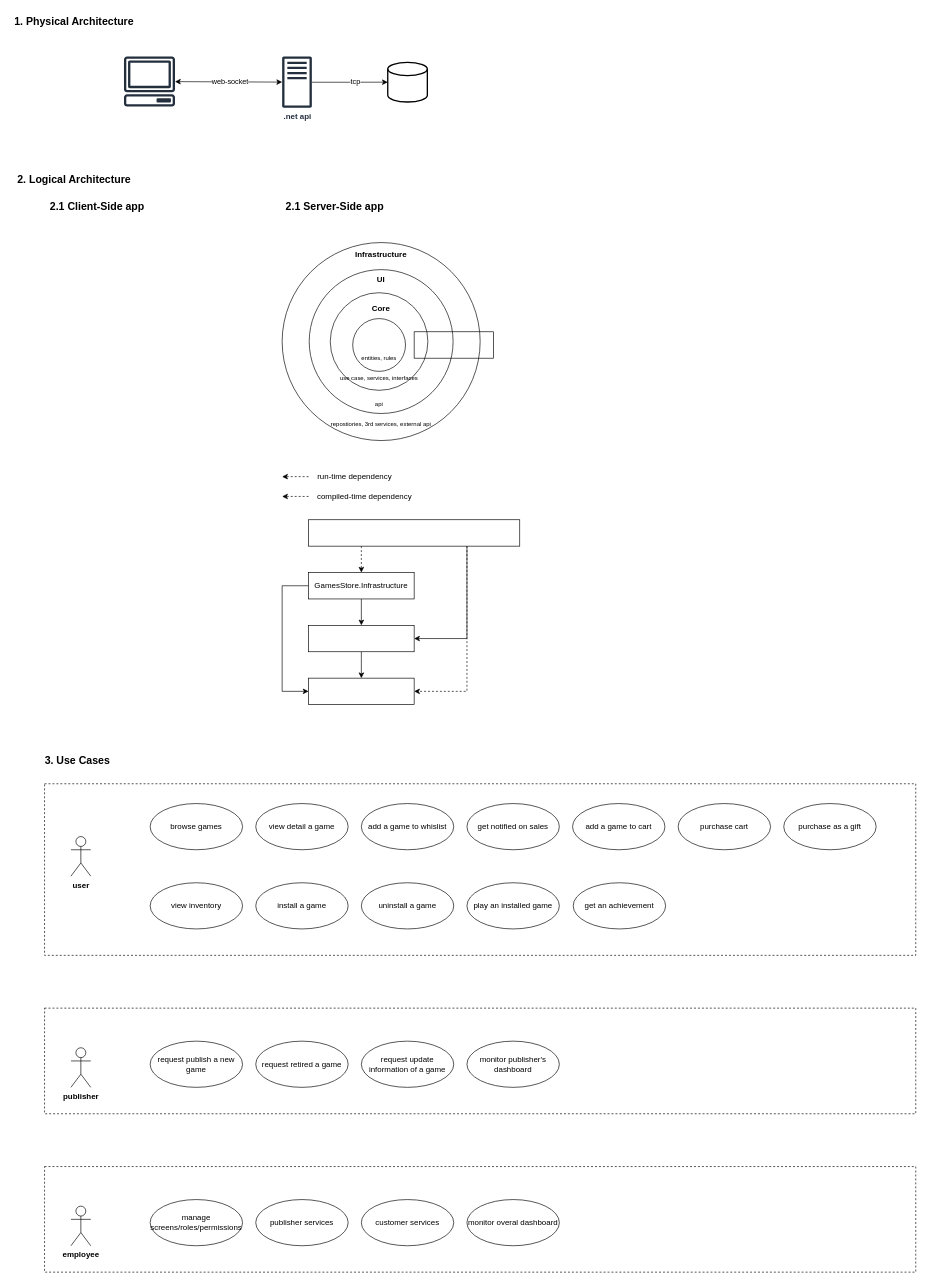
This 927x1284 diagram has some shape labels left out. The shapes that lost their labels are listed below. From the top down, each one's box as (x1, y1, x2, y2) in pixels, then its label:
(123, 56, 175, 106): WPF app
(387, 61, 428, 102): sql server
(352, 318, 406, 371): Domain
(413, 331, 493, 358): Test
(308, 519, 520, 546): GamesStore.UI
(308, 625, 414, 652): GamesStore.Core
(308, 677, 414, 705): GamesStore.Domain
